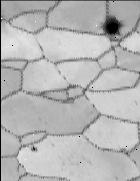good_void: (99, 10, 125, 39), (27, 143, 39, 152), (46, 140, 54, 148), (132, 98, 138, 106)
